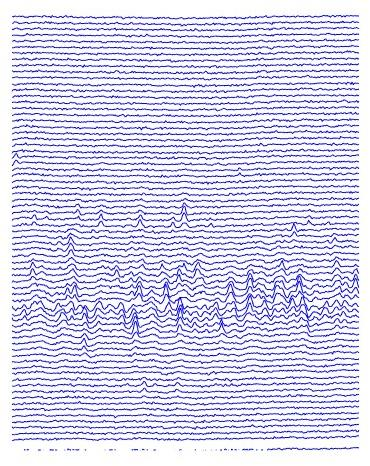defect: (267, 263, 319, 339), (51, 236, 90, 335), (212, 266, 255, 334), (327, 257, 359, 330), (155, 279, 190, 330), (117, 300, 144, 341), (15, 294, 43, 326), (176, 195, 192, 233), (73, 198, 85, 227), (26, 253, 38, 282), (95, 207, 107, 234), (135, 205, 146, 231)
